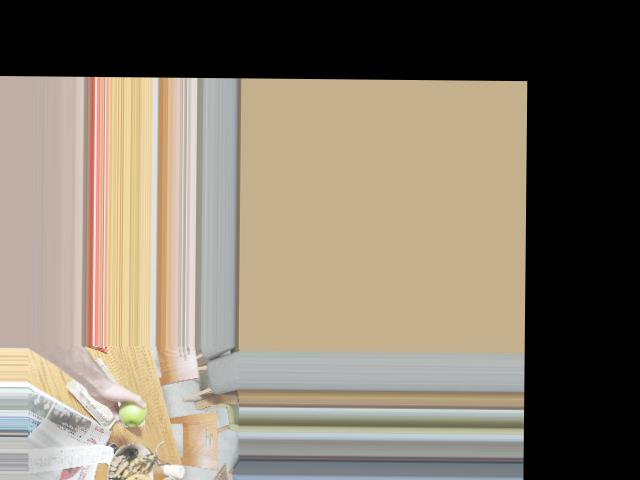apple: (115, 395, 150, 427)
